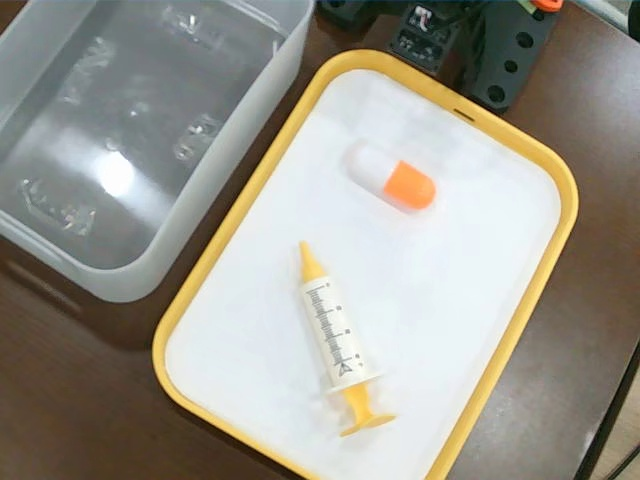pill: (342, 140, 441, 216)
syringe: (291, 235, 397, 439)
